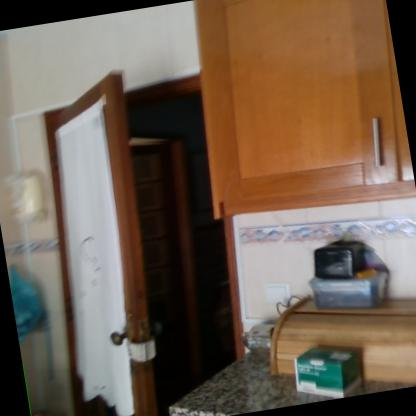semi: (27, 63, 273, 415)
